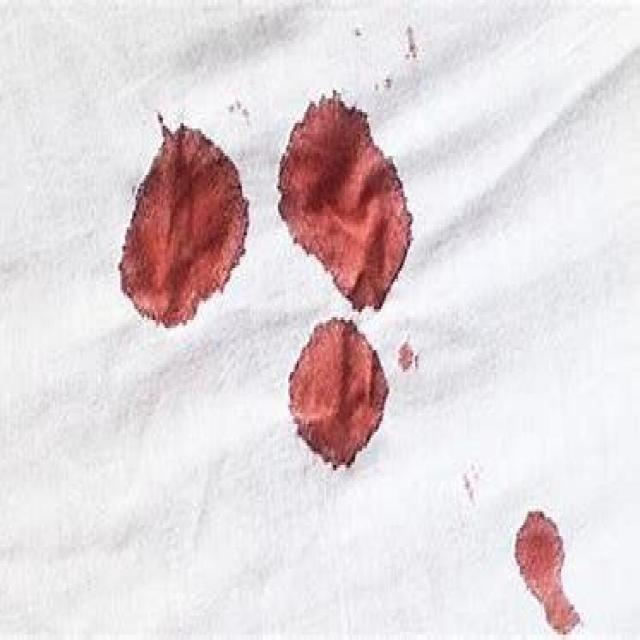wound: (244, 58, 429, 333), (77, 100, 255, 320), (262, 285, 388, 502), (464, 474, 620, 640)
